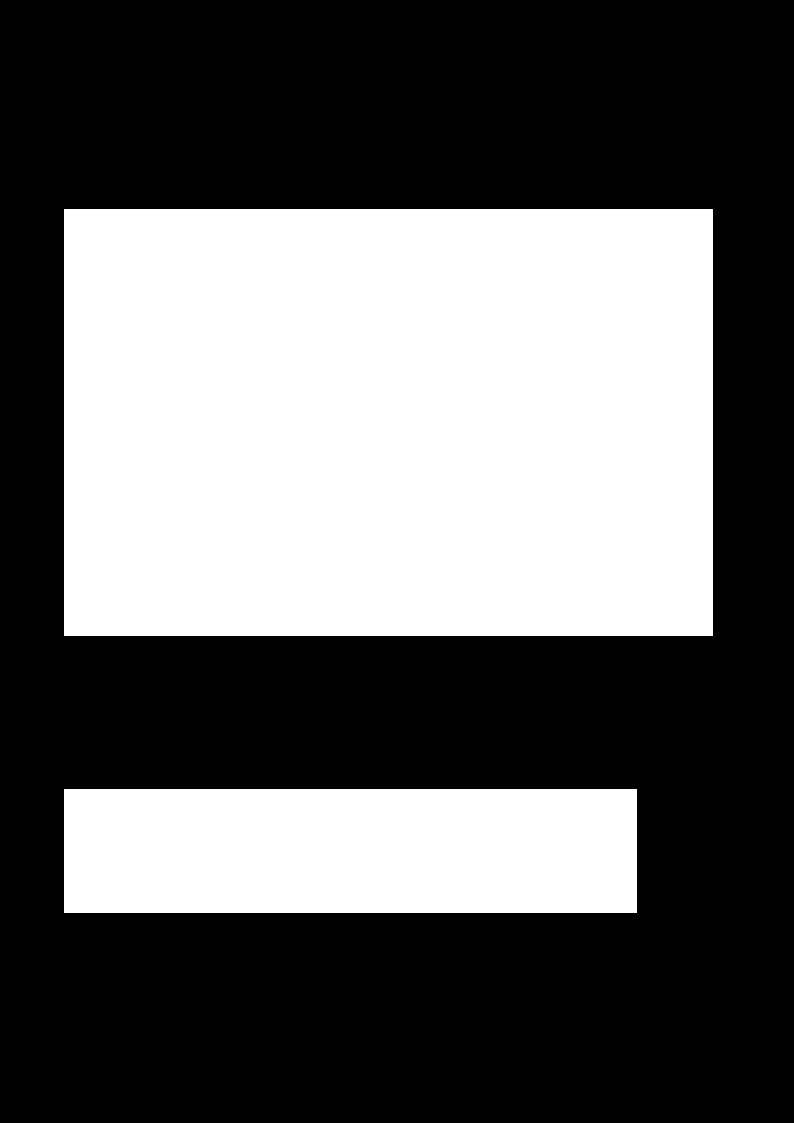table: (64, 209, 712, 635), (64, 789, 636, 912)
